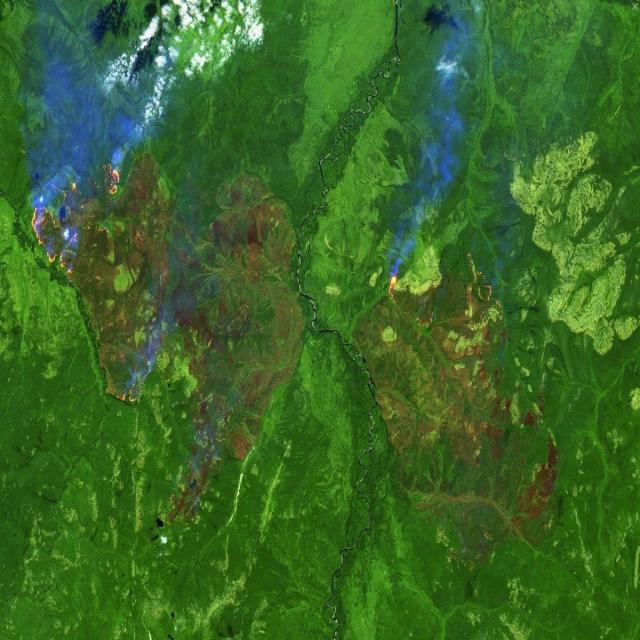fire: (28, 153, 123, 276), (114, 350, 156, 409), (476, 276, 504, 322), (382, 268, 402, 310)
